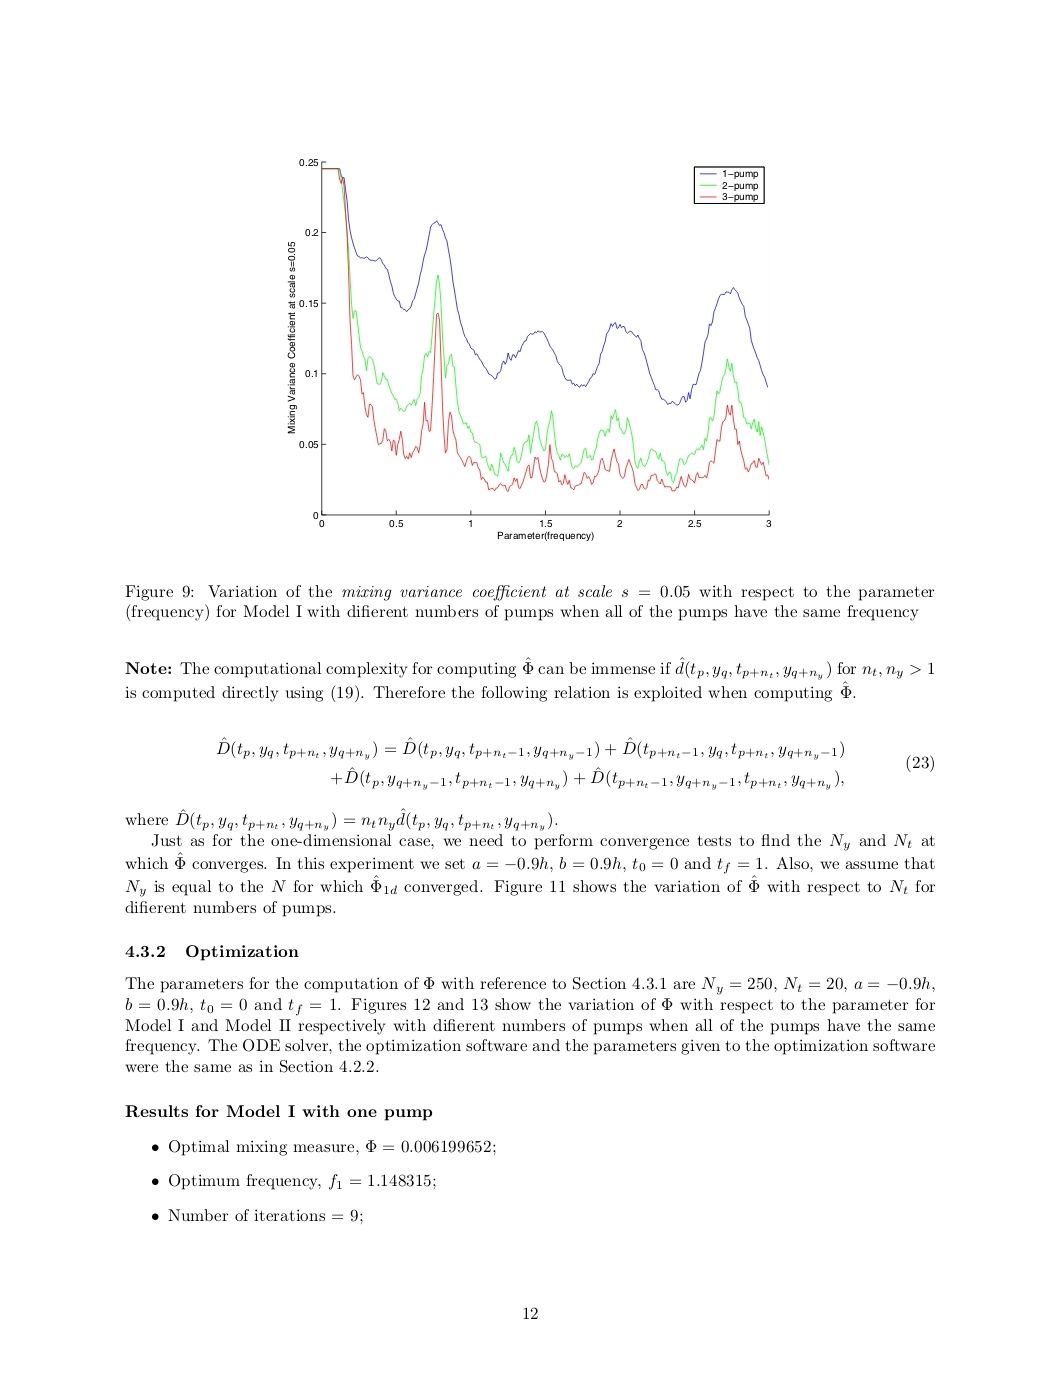figure: (288, 159, 771, 541)
formula: (216, 736, 933, 790), (125, 808, 557, 830)
